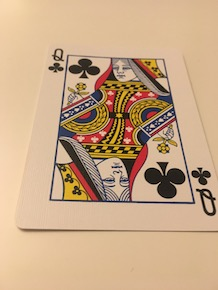QueenOfClubs: (10, 39, 218, 237)
